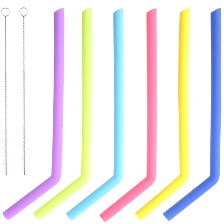drinking_straw: (0, 4, 69, 223), (30, 5, 99, 222), (129, 3, 194, 224), (160, 4, 224, 223), (64, 5, 128, 223), (98, 4, 160, 223)
